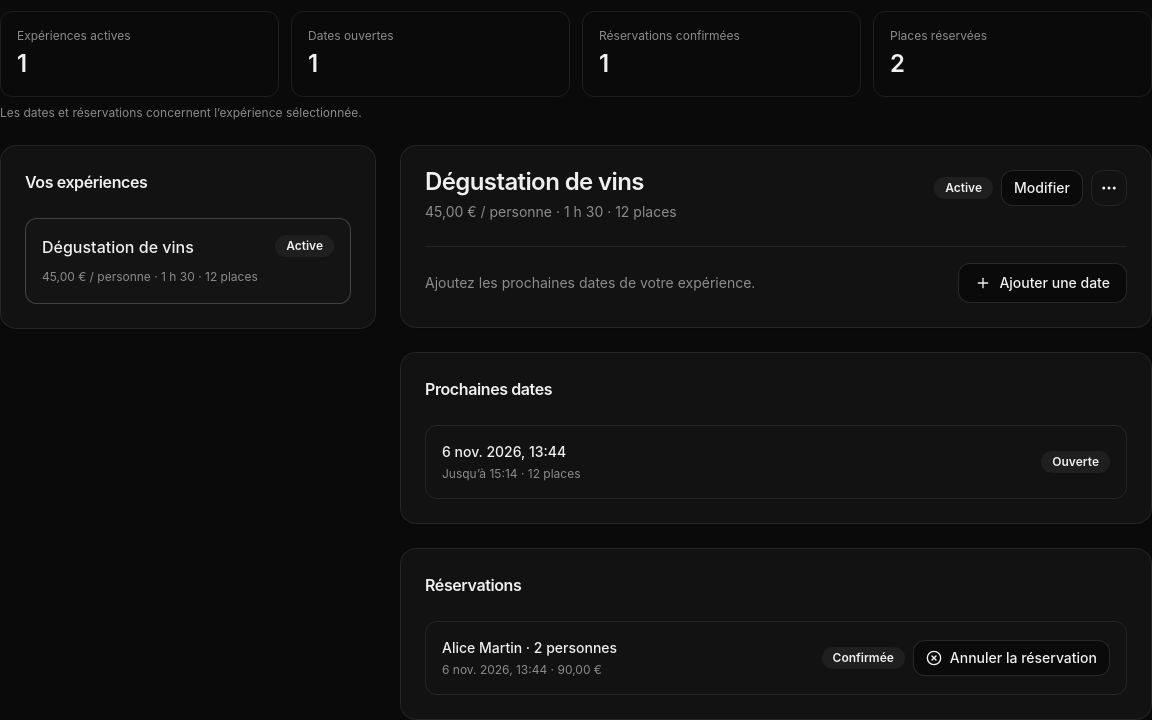
it: ExperiencesPage › affiche un remboursement échoué à côté des réservations, pas comme un échec de chargement
(page scrolled)
Click the button "Annuler la réservation". click: x=1011, y=658
box: [913, 640, 1110, 676]
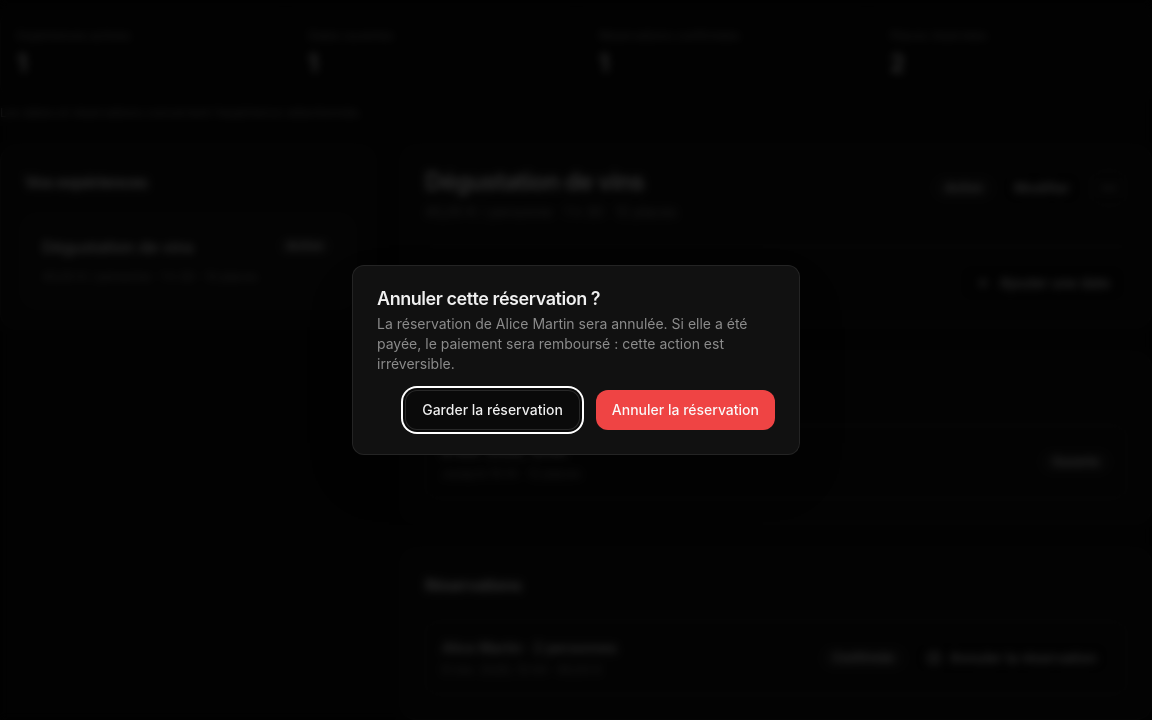
Click the button "Annuler la réservation". click: x=685, y=410
box: [596, 390, 775, 430]
(page scrolled)
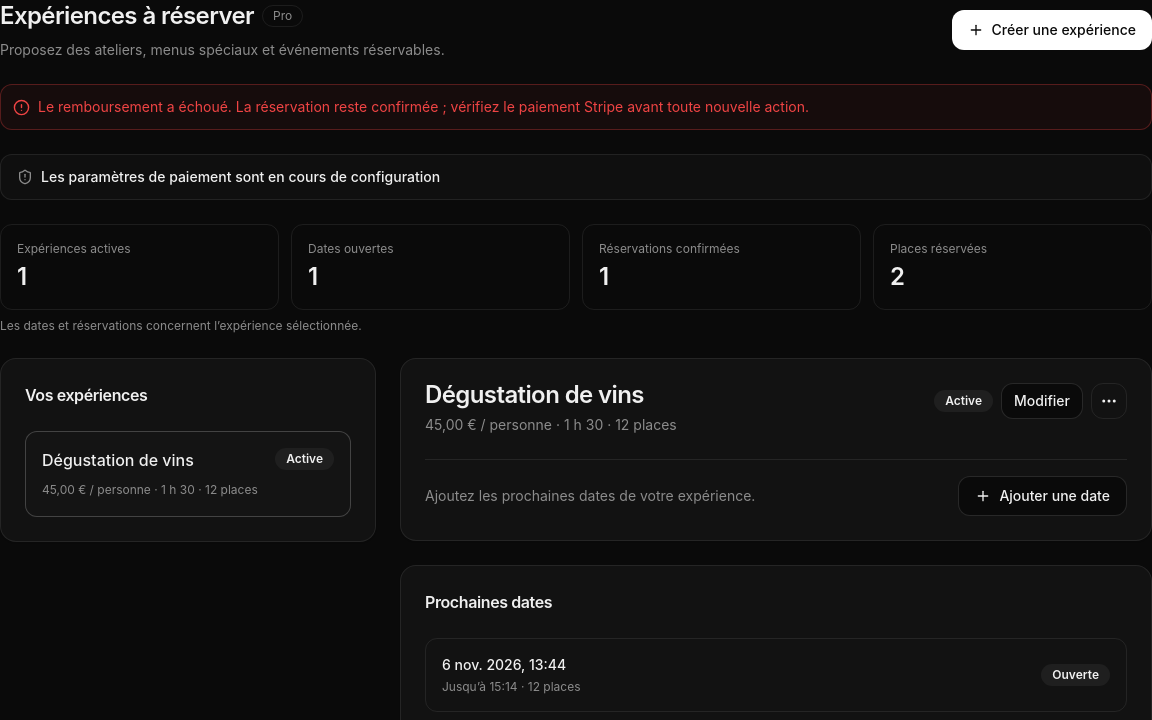
Check: the 1st message shows "Le remboursement a échoué", box [38, 98, 809, 115]
